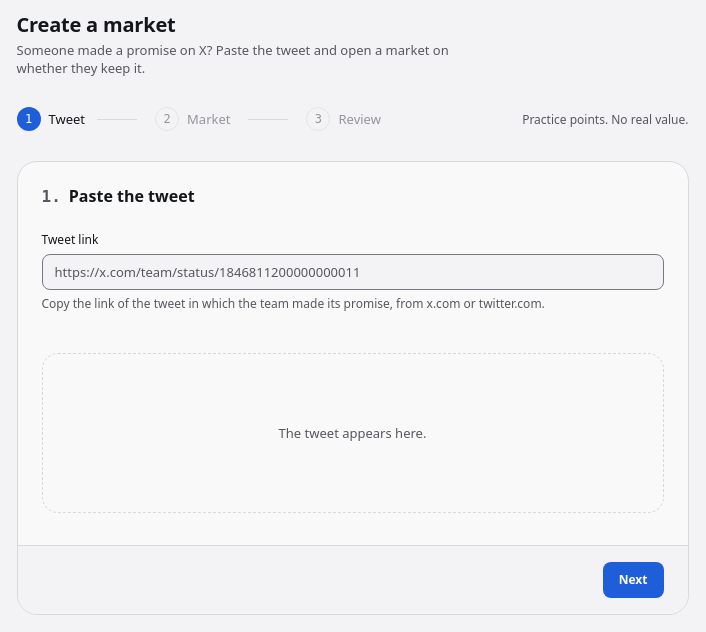
Test: create wizard: tweet step › rejects a link that is not a tweet, inline, without fetching
Step 1. Type "https://example.com/post/1" into the field labelled "Tweet link" → (352, 272), box [42, 254, 664, 290]
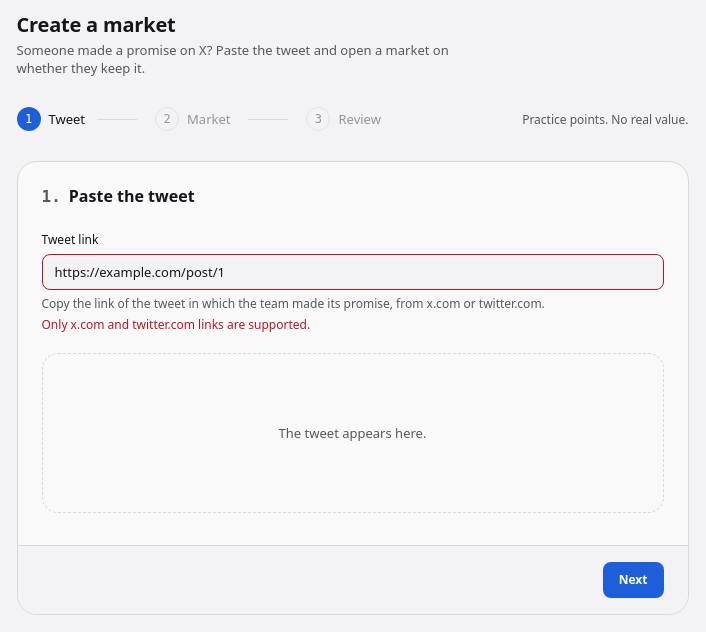
Result: the text "Only x.com and twitter.com links are supported." is shown at [42, 316, 310, 333]
Step 2. Replace the text in the field labelled "Tweet link" with "https://x.com/someone" → (352, 272), box [42, 254, 664, 290]
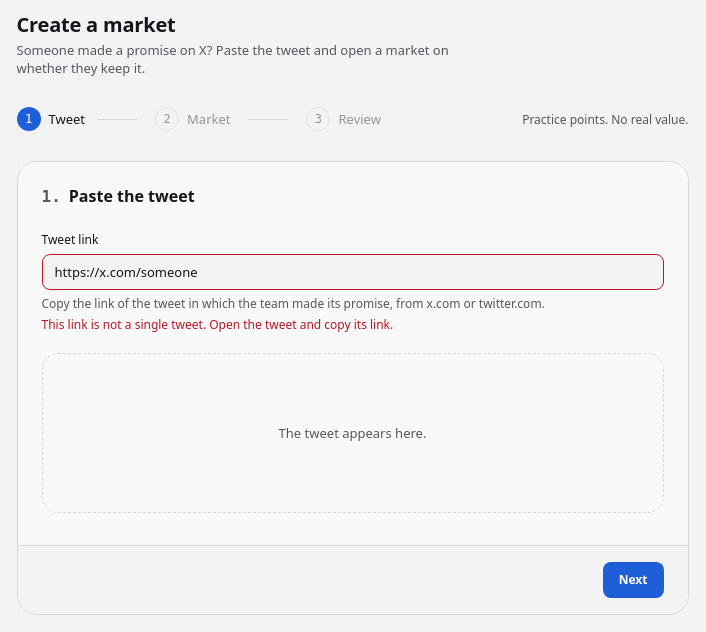
Result: the text "This link is not a single tweet. Open the tweet and copy its link." is shown at [42, 316, 393, 333]
